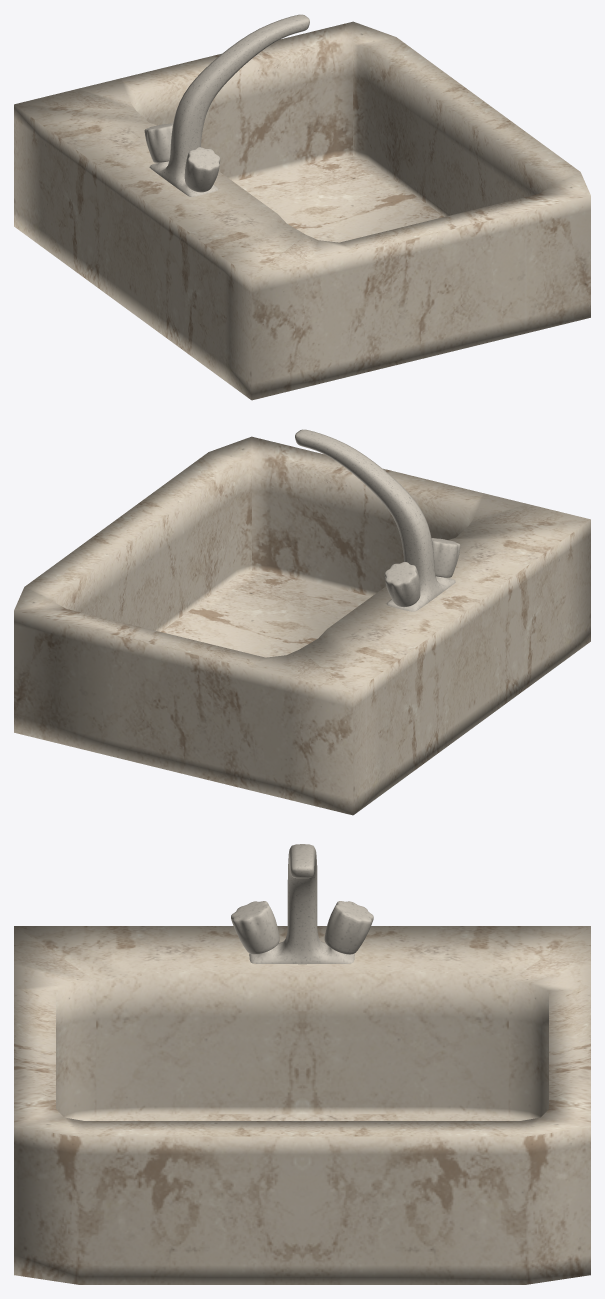
Rendered from lavandino.fbx.
3 renders of one model, top to bottom at view 1: azimuth 30°, elevation 25°; view 2: azimuth 150°, elevation 25°; view 3: azimuth 270°, elevation 25°, orthographic. The views are drawn at different scales.
Visible parts, largest first — view 1: sink, Cylinder.001; view 2: sink, Cylinder.001; view 3: sink, Cylinder.001.
Boxes of the visible parts, left/top/right/bottom form: sink: left=14, top=21, right=590, bottom=400; Cylinder.001: left=144, top=14, right=309, bottom=196; sink: left=14, top=436, right=590, bottom=815; Cylinder.001: left=295, top=429, right=460, bottom=611; sink: left=14, top=926, right=590, bottom=1284; Cylinder.001: left=231, top=844, right=373, bottom=964.
Bounding box in the file's own units: 60.97 × 42.96 × 70.55.
